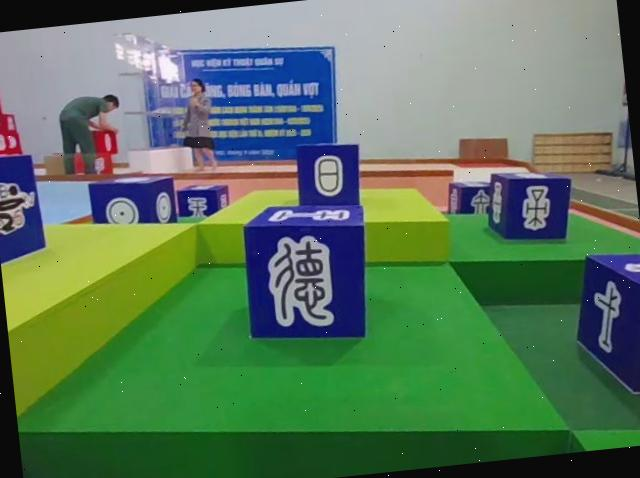R1 Blue: (0, 150, 48, 278)
R2 Fake Blue: (239, 199, 378, 352), (291, 141, 364, 216), (445, 177, 495, 216)
R2 Real Blue: (569, 253, 640, 415), (486, 168, 581, 252), (89, 175, 180, 236), (178, 183, 233, 222)
